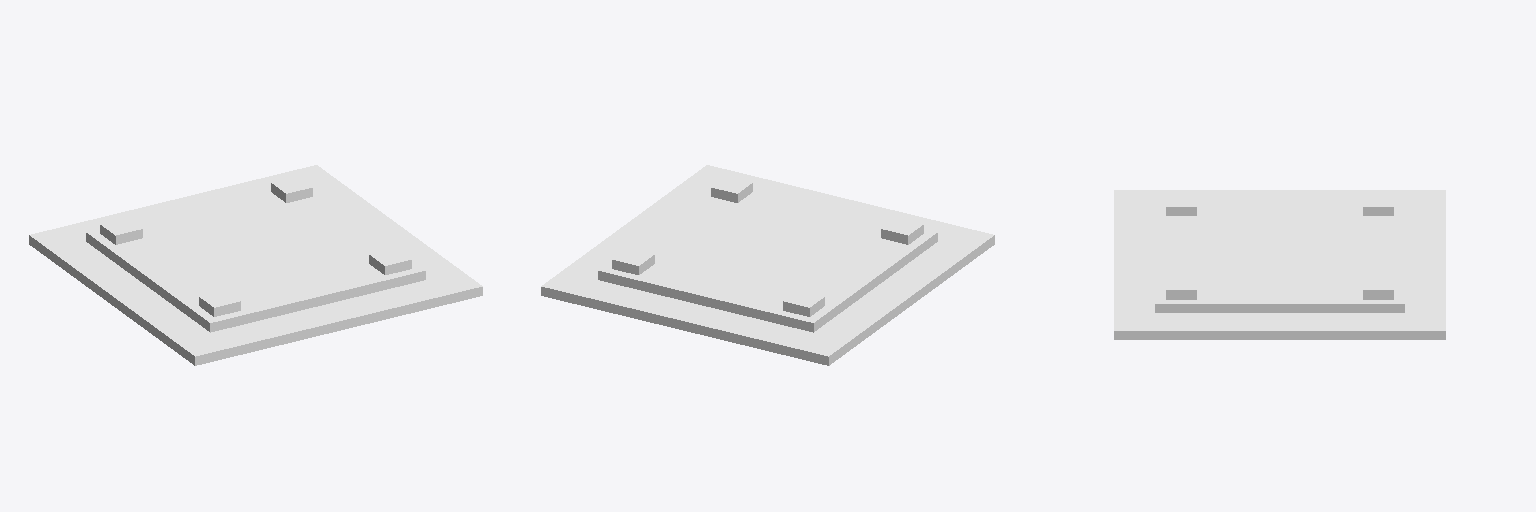
File: zone.obj
3 renders of one model, left to right at view 1: azimuth 30°, elevation 25°; view 2: azimuth 150°, elevation 25°; view 3: azimuth 270°, elevation 25°, orthographic.
Parts seen in each view (by area): view 1: object 1; view 2: object 1; view 3: object 1.
Boxes of the visible parts, <box> form: object 1: <box>29,165,482,365</box>; object 1: <box>541,165,994,365</box>; object 1: <box>1114,190,1445,339</box>.
Bounding box in the file's own units: 3.2 × 0.3 × 3.2.